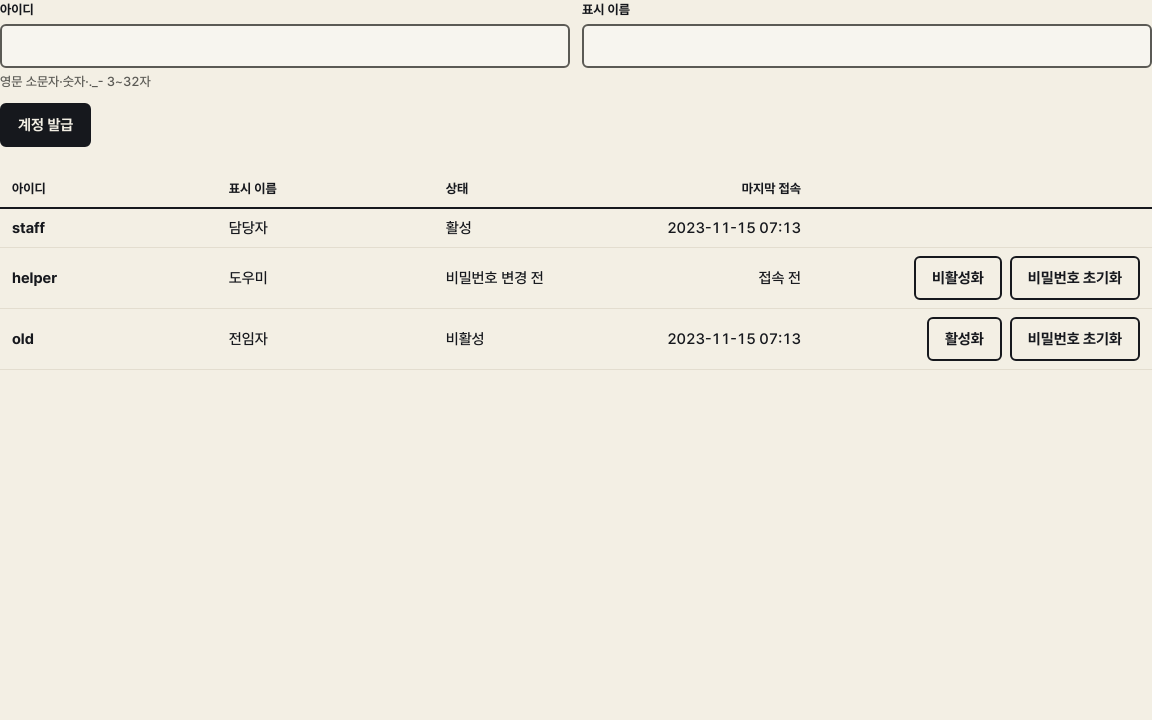
Test case: 기관 계정 목록 › 비활성화는 세션이 끊긴다고 알리고, 취소하면 요청하지 않는다
Click the button with aria-label "helper 비활성화" at (958, 278), box [914,256,1002,300]
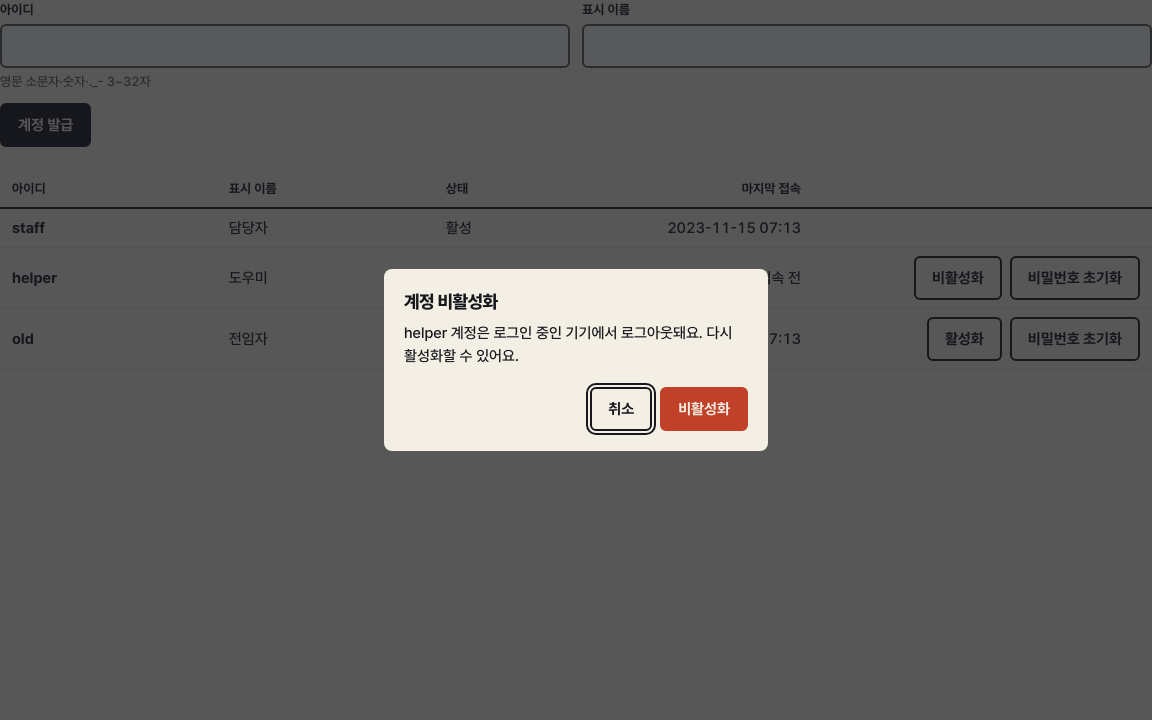
Check: the dialog "계정 비활성화" shows "helper", box [404,324,732,365]
Check: the dialog "계정 비활성화" shows "로그인 중인 기기에서 로그아웃돼요", box [404,324,732,365]
Check: the dialog "계정 비활성화" shows "다시 활성화할 수 있어요", box [404,324,732,365]
Click the button "취소" at (621, 409), box [590,387,652,431]
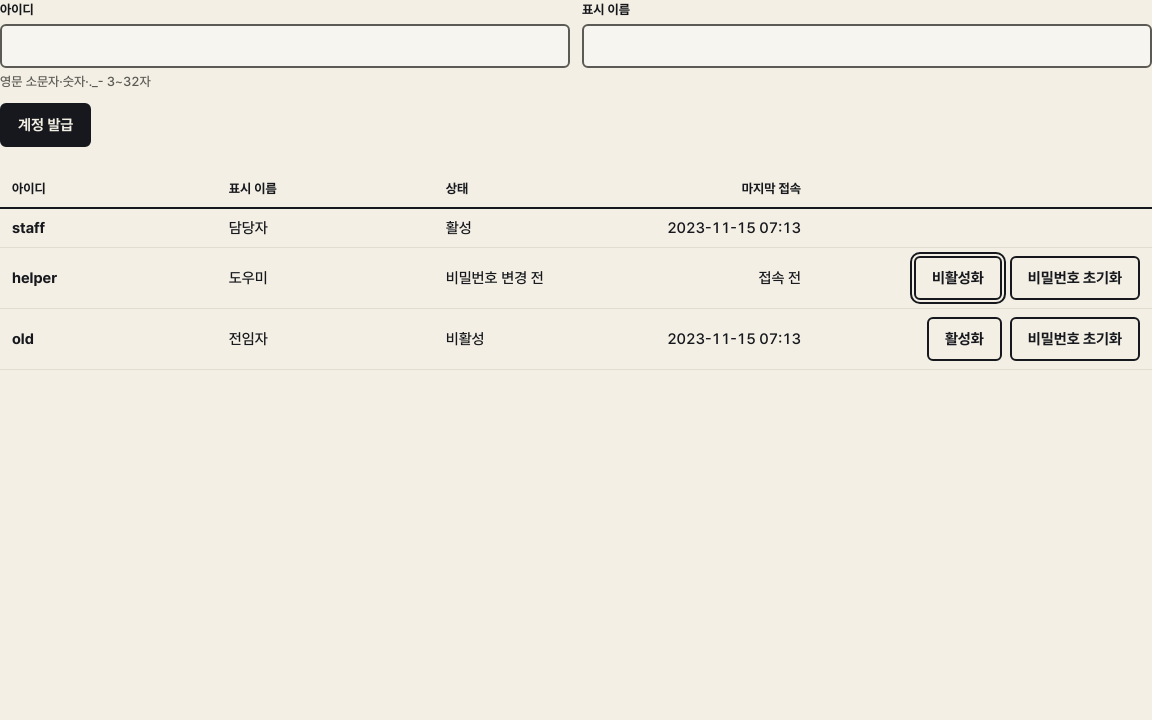
Check: the dialog is gone
